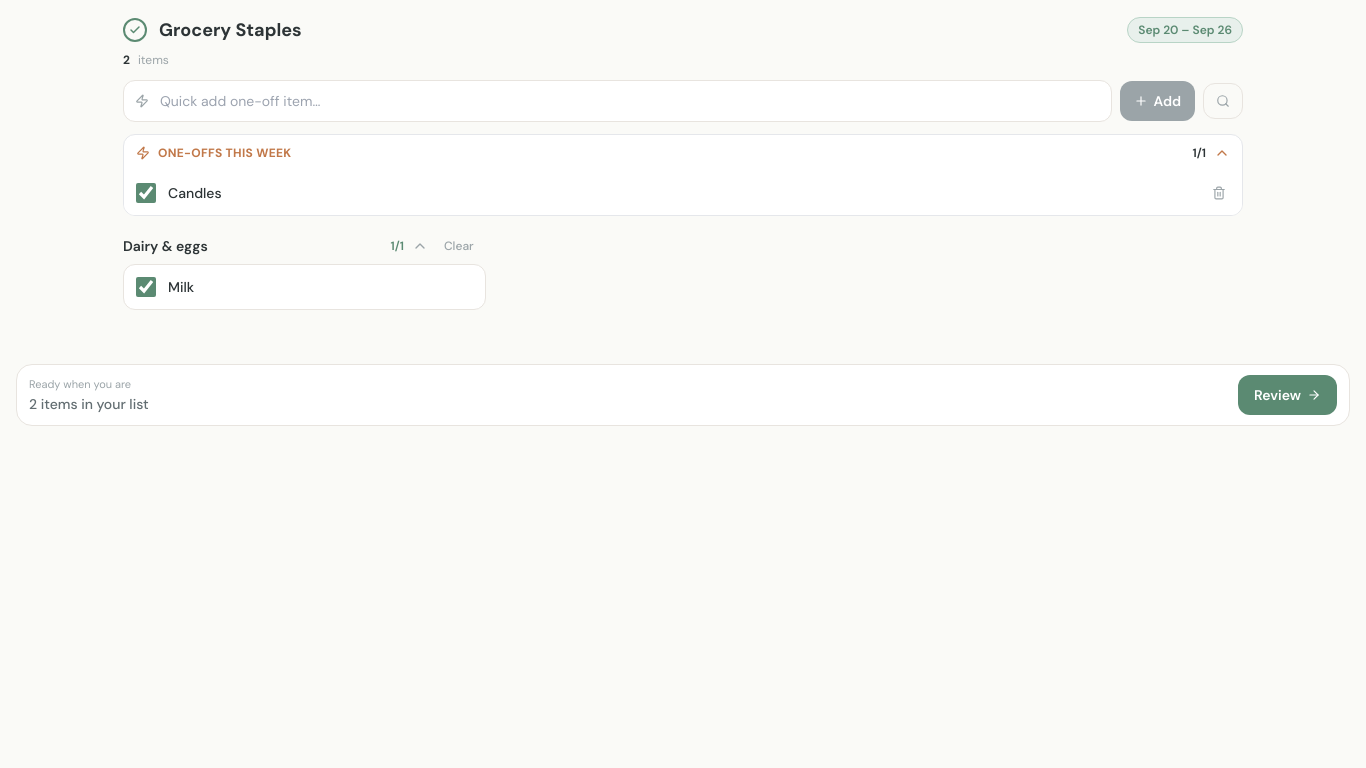
Scenario: Plan › clicking Review button opens ReviewScreen overlay
The width and height of the screenshot is (1366, 768).
Click the button "Review".
click(1288, 395)  # box [1238,375,1337,415]
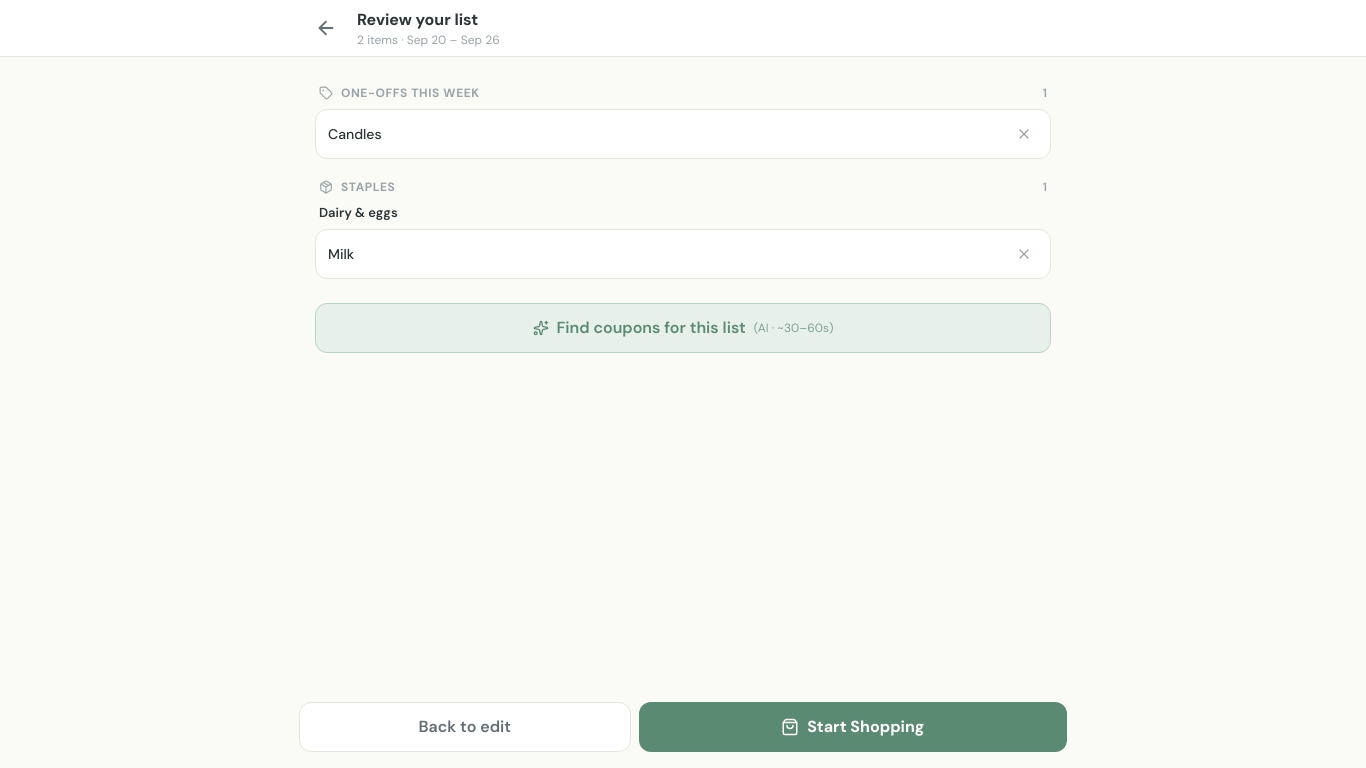
Expected: the text "Review your list" is shown, [357,9,478,30]
